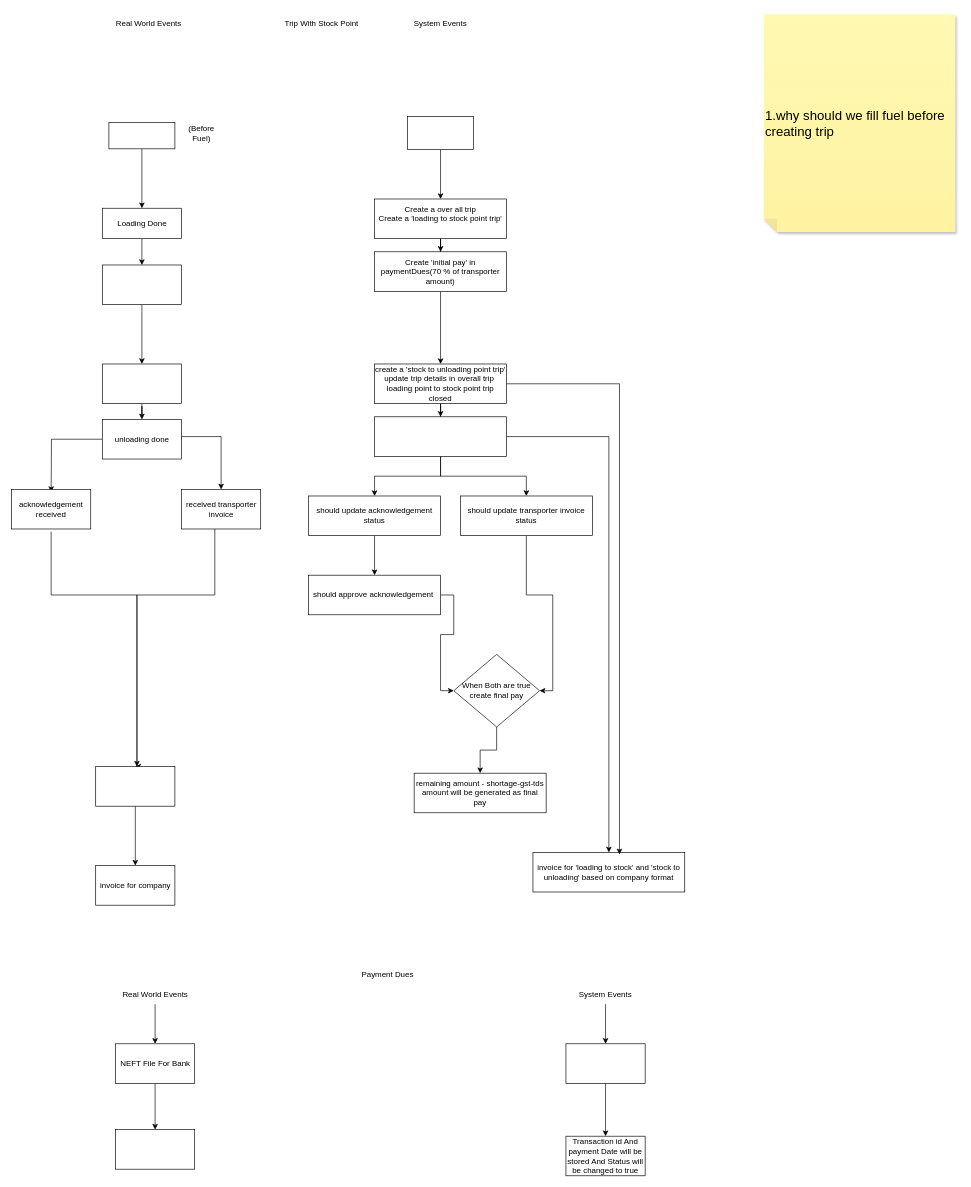
The diagram is 971 pixels wide and 1187 high, and some of its shapes have lost their labels. Here are the shapes that lost their labels. From the top down, the centre of each, then its label:
At pixel 141 135: "Fill Fuel".
At pixel 440 132: "Create Fuel".
At pixel 142 284: "paid initial pay".
At pixel 142 383: "trip started from stock point to unloading point".
At pixel 440 436: "stock point to unloading point trip closed shortage will be created".
At pixel 135 786: "final payment for transporter".
At pixel 605 1063: "NEFT File Status will be changed to true".
At pixel 155 1149: "Paid to transporter".
